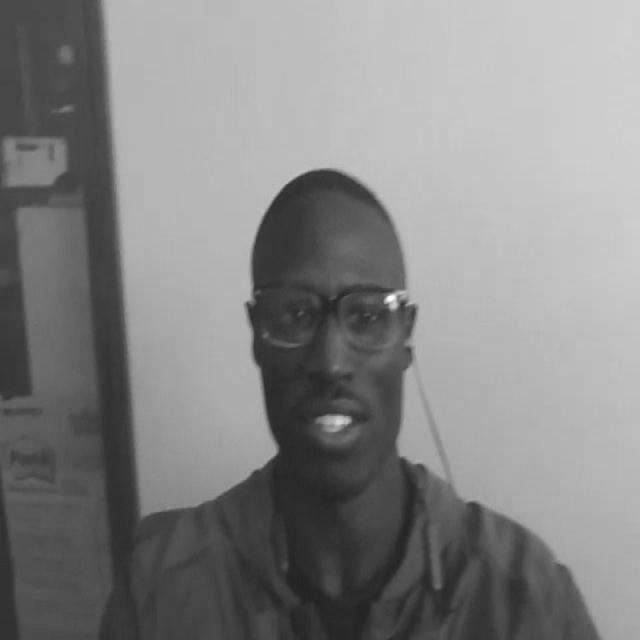real: (246, 184, 416, 505)
